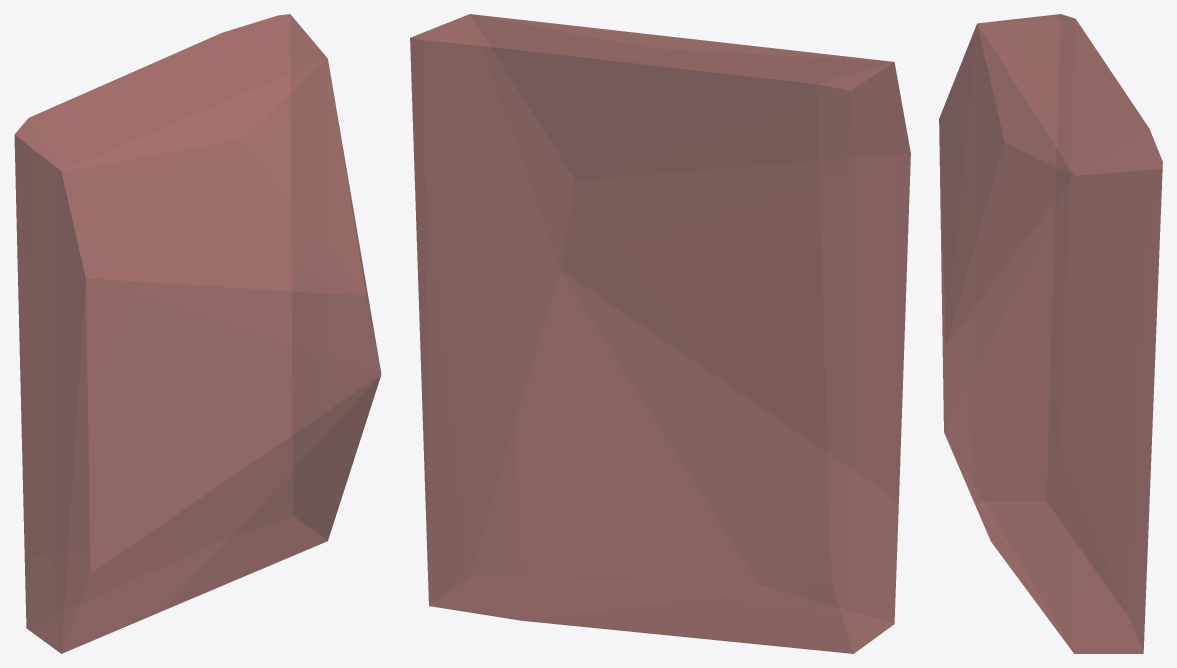
The picture shows the model from 3 angles, left to right: view 1: azimuth 30°, elevation 25°; view 2: azimuth 150°, elevation 25°; view 3: azimuth 270°, elevation 25°; orthographic projection. The views are drawn at different scales.
Visible parts, largest first — view 1: Shape_IndexedFaceSet.046_Shape_IndexedFaceSet.3540; view 2: Shape_IndexedFaceSet.046_Shape_IndexedFaceSet.3540; view 3: Shape_IndexedFaceSet.046_Shape_IndexedFaceSet.3540.
Part boxes in pixels (<box>): Shape_IndexedFaceSet.046_Shape_IndexedFaceSet.3540: <box>14,14,381,653</box>; Shape_IndexedFaceSet.046_Shape_IndexedFaceSet.3540: <box>410,14,910,653</box>; Shape_IndexedFaceSet.046_Shape_IndexedFaceSet.3540: <box>939,14,1162,653</box>.
Bounding box in the file's own units: 0.1034 × 0.1502 × 0.0619.
